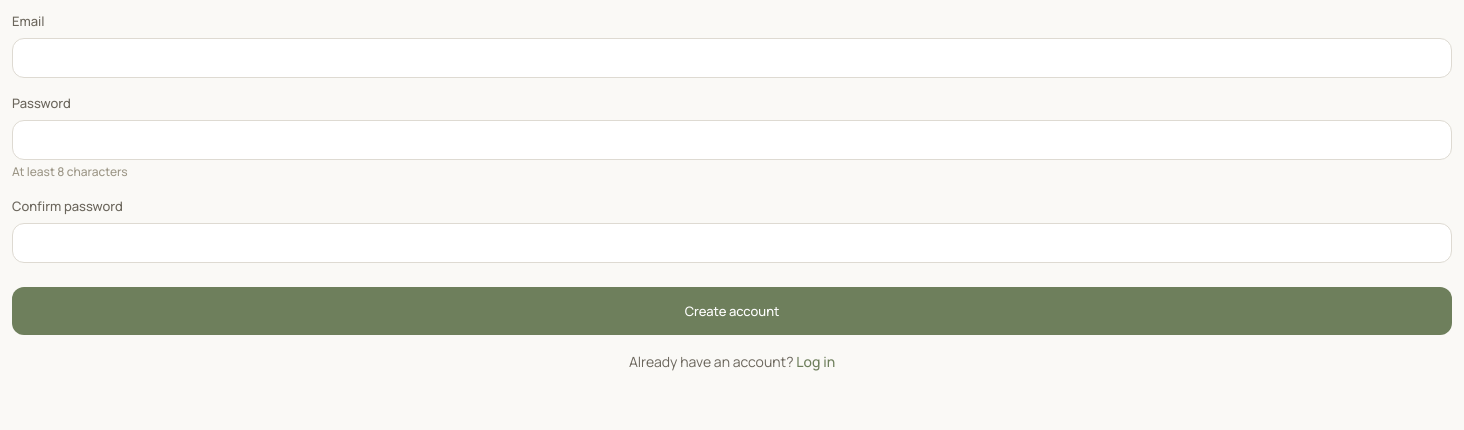
RegisterForm › shows validation errors for an empty submit
Step 1. Click the button "Create account" → (732, 311), box [12,287,1452,335]
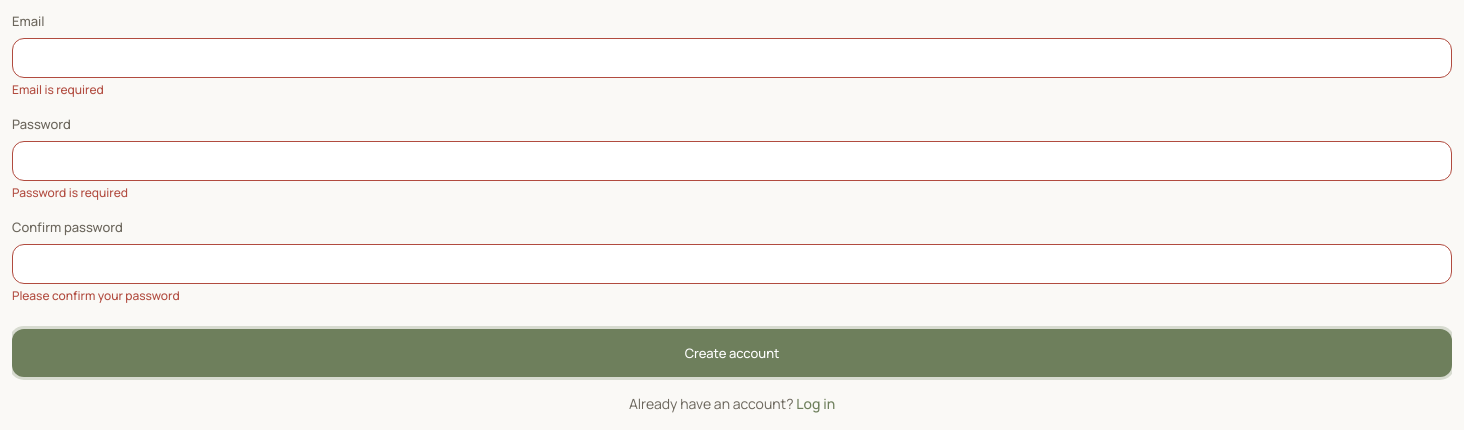
expect the text "Email is required" is shown: met, box [12,81,104,98]
expect the text "Password is required" is shown: met, box [12,184,128,201]
